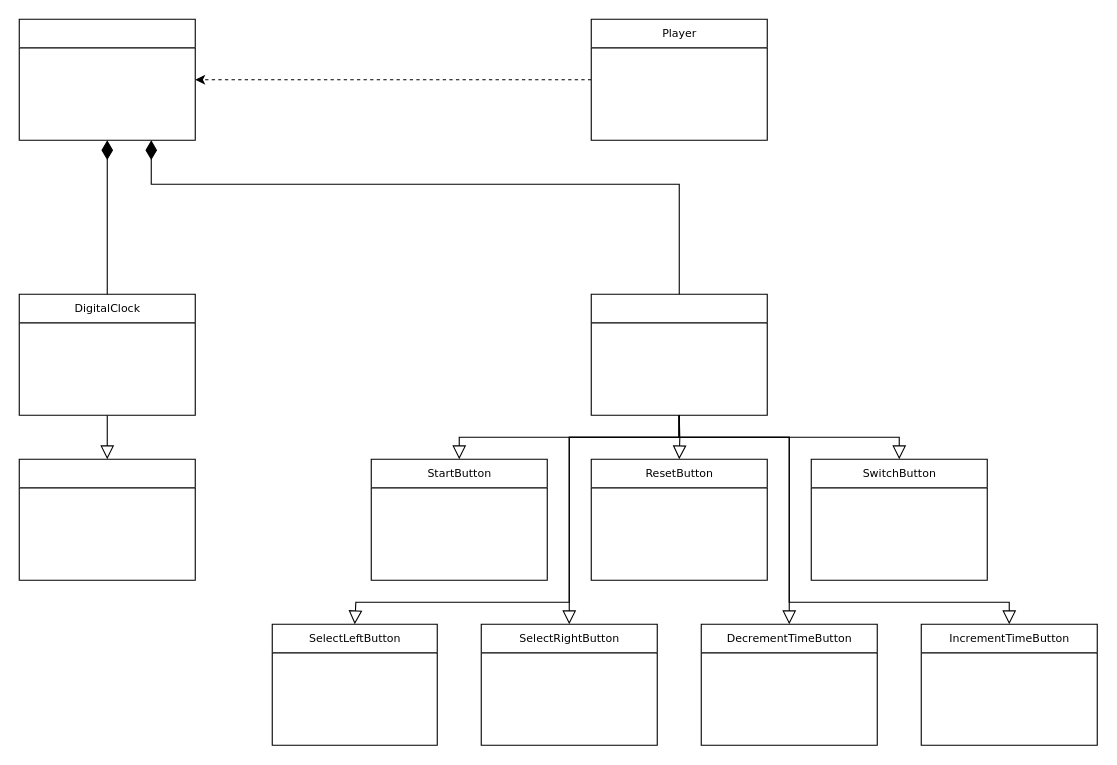
This 1117x765 diagram has some shape labels left out. The box of each missing label's shape, as (x1, y1, x2, y2) in pixels:
Button: (590, 293, 767, 415)
ChessClock: (18, 18, 195, 140)
Clock: (18, 458, 195, 580)
